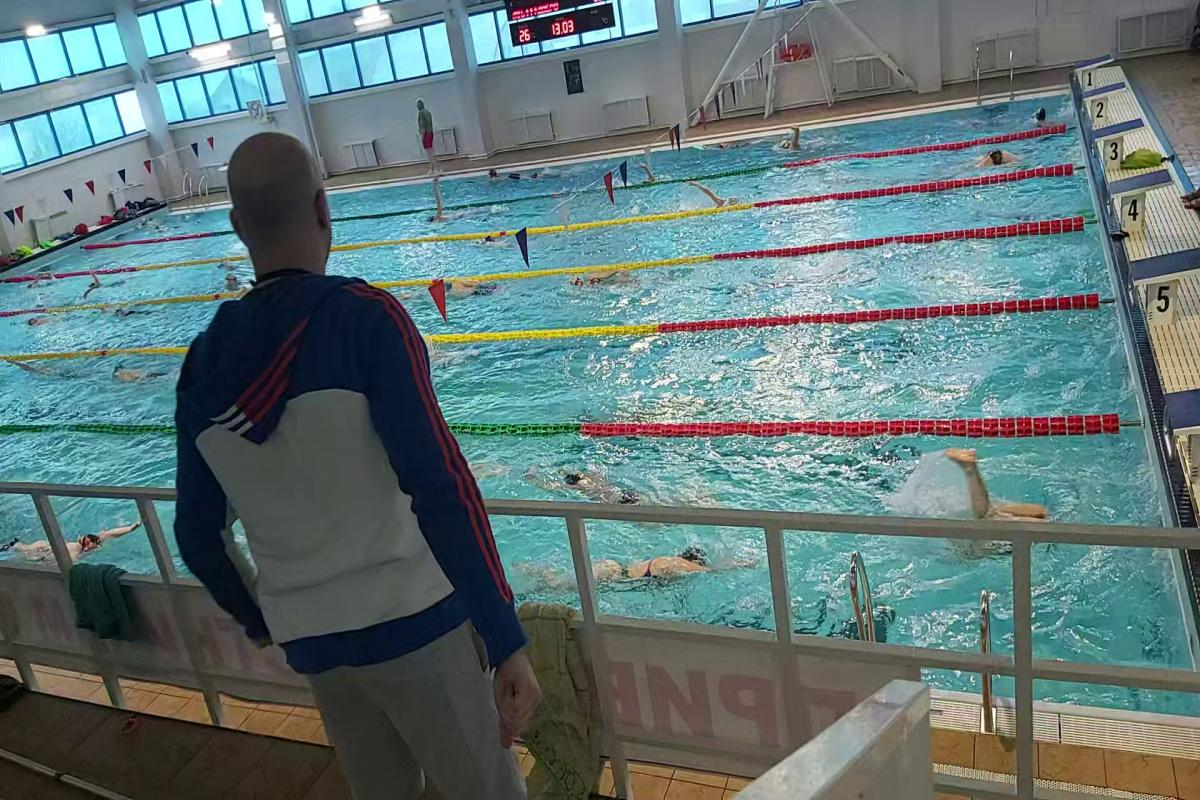swimmer: (524, 536, 759, 602), (930, 450, 1058, 521), (12, 520, 146, 564), (523, 457, 640, 501), (22, 357, 86, 395), (562, 266, 642, 296), (102, 355, 166, 386), (686, 180, 744, 208), (967, 146, 1023, 172)
